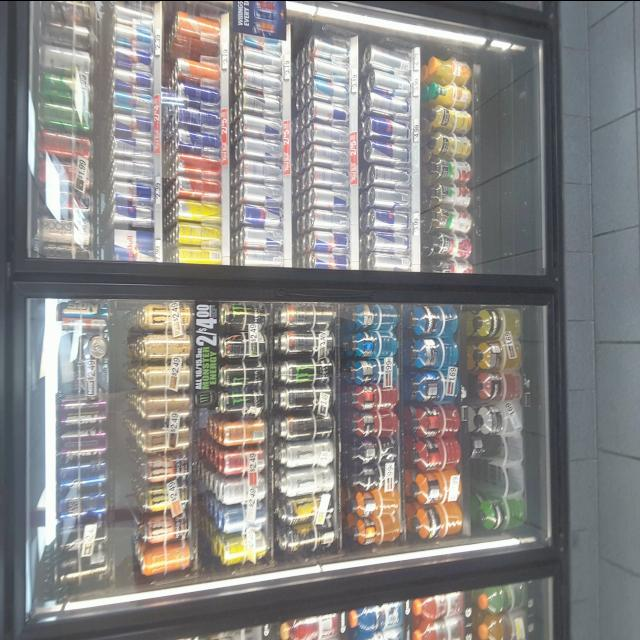empty_space: (486, 60, 530, 264)
